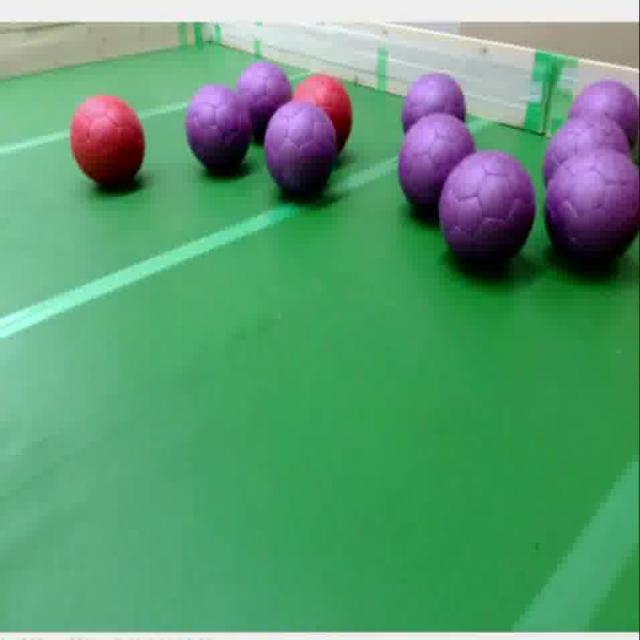purple_ball: (543, 151, 640, 278), (437, 150, 535, 275), (545, 114, 633, 225), (400, 113, 478, 221), (181, 88, 252, 178), (264, 111, 333, 203), (572, 83, 640, 160), (401, 70, 468, 141), (235, 62, 290, 134)
red_ball: (70, 96, 147, 189), (287, 73, 354, 103)
